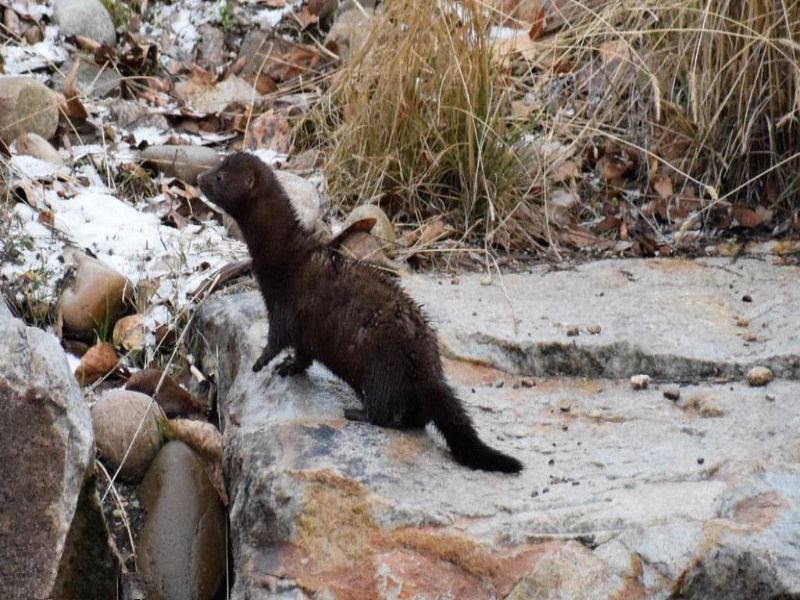minkish: (197, 152, 524, 478)
